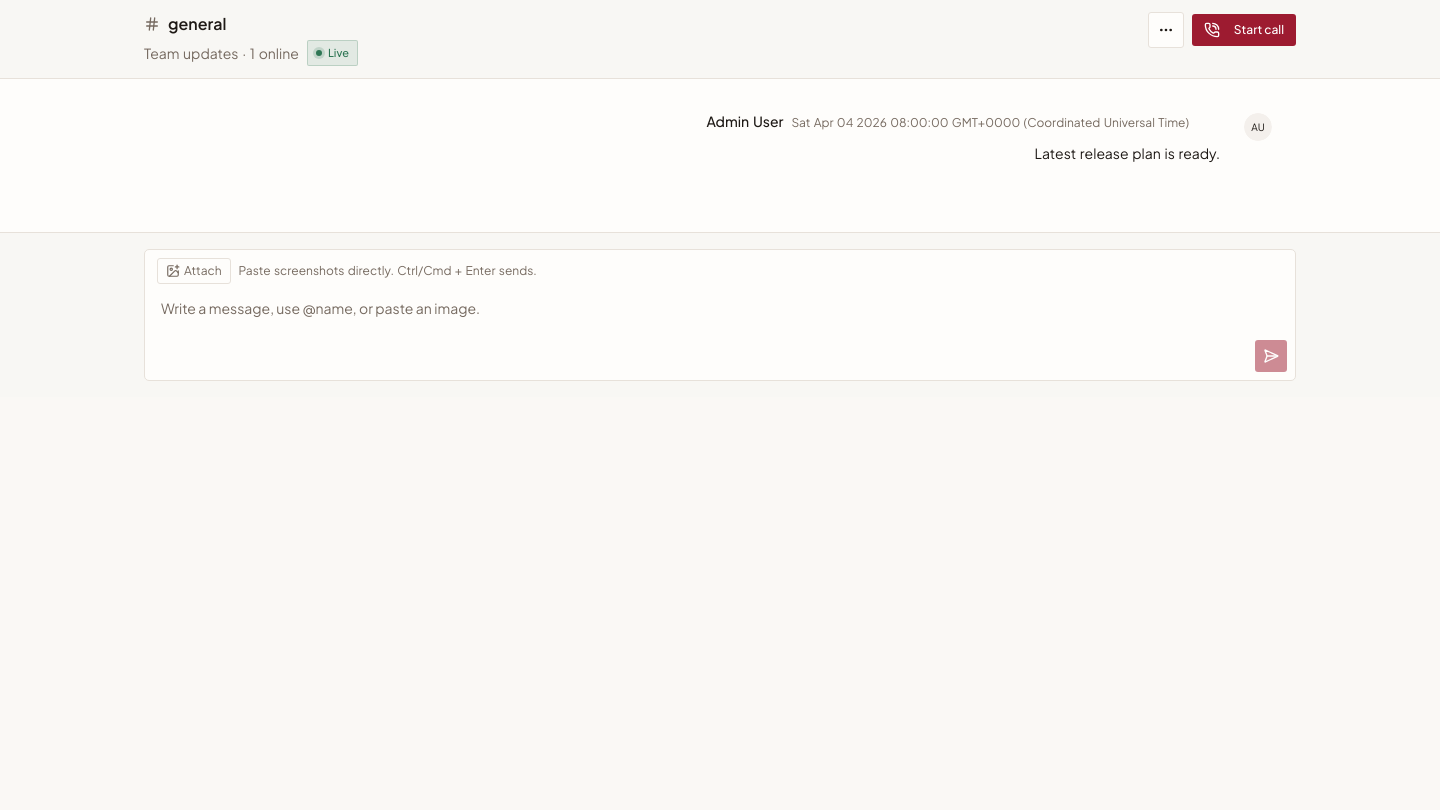
Test: ChatShell › shows a clear localized audio error if microphone access fails while joining
This screenshot has width=1440, height=810.
Click the button "Start call".
click(1244, 30)  # box [1192,14,1296,46]
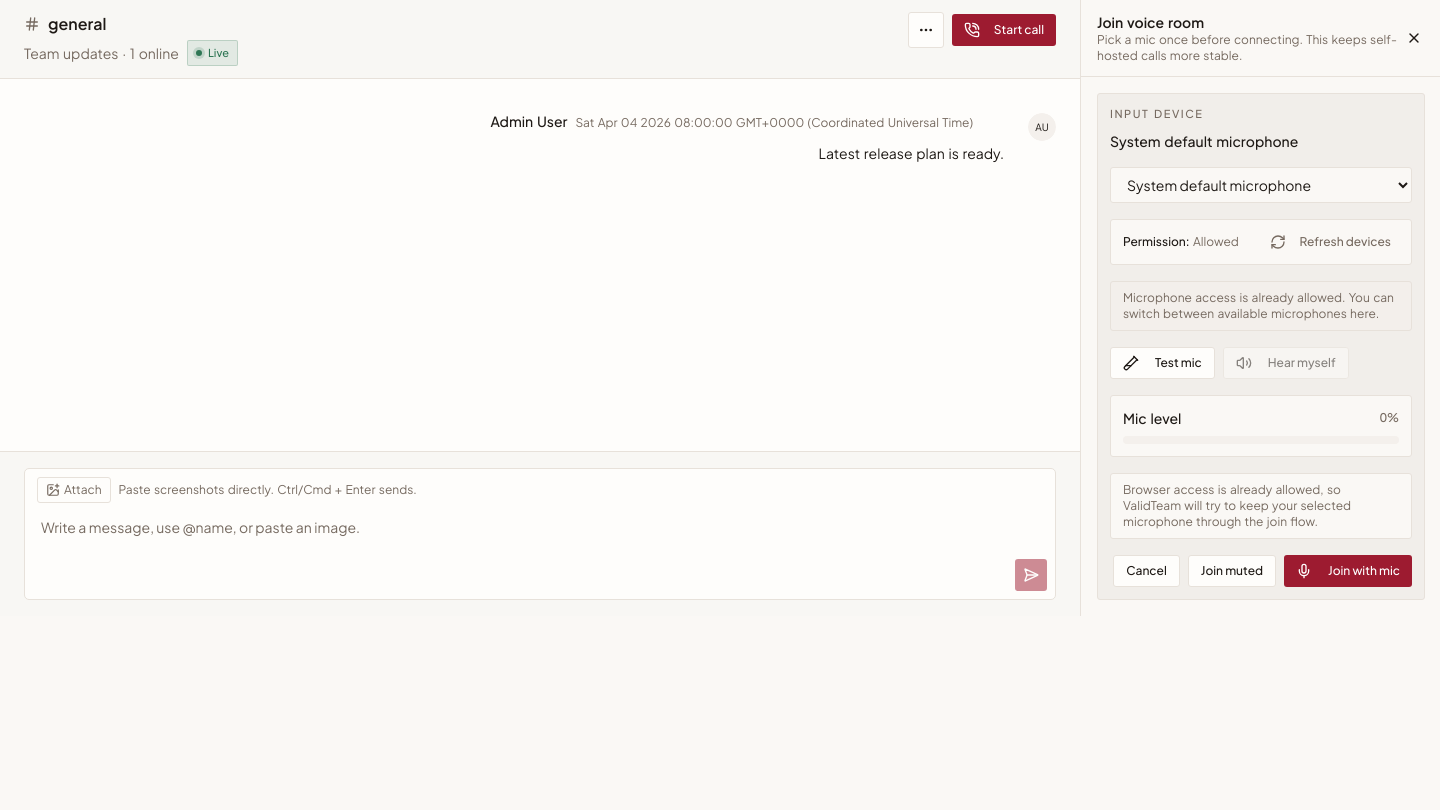
Now the button "Join with mic" is enabled
Click the button "Join with mic".
click(1348, 570)  # box [1284,554,1412,586]
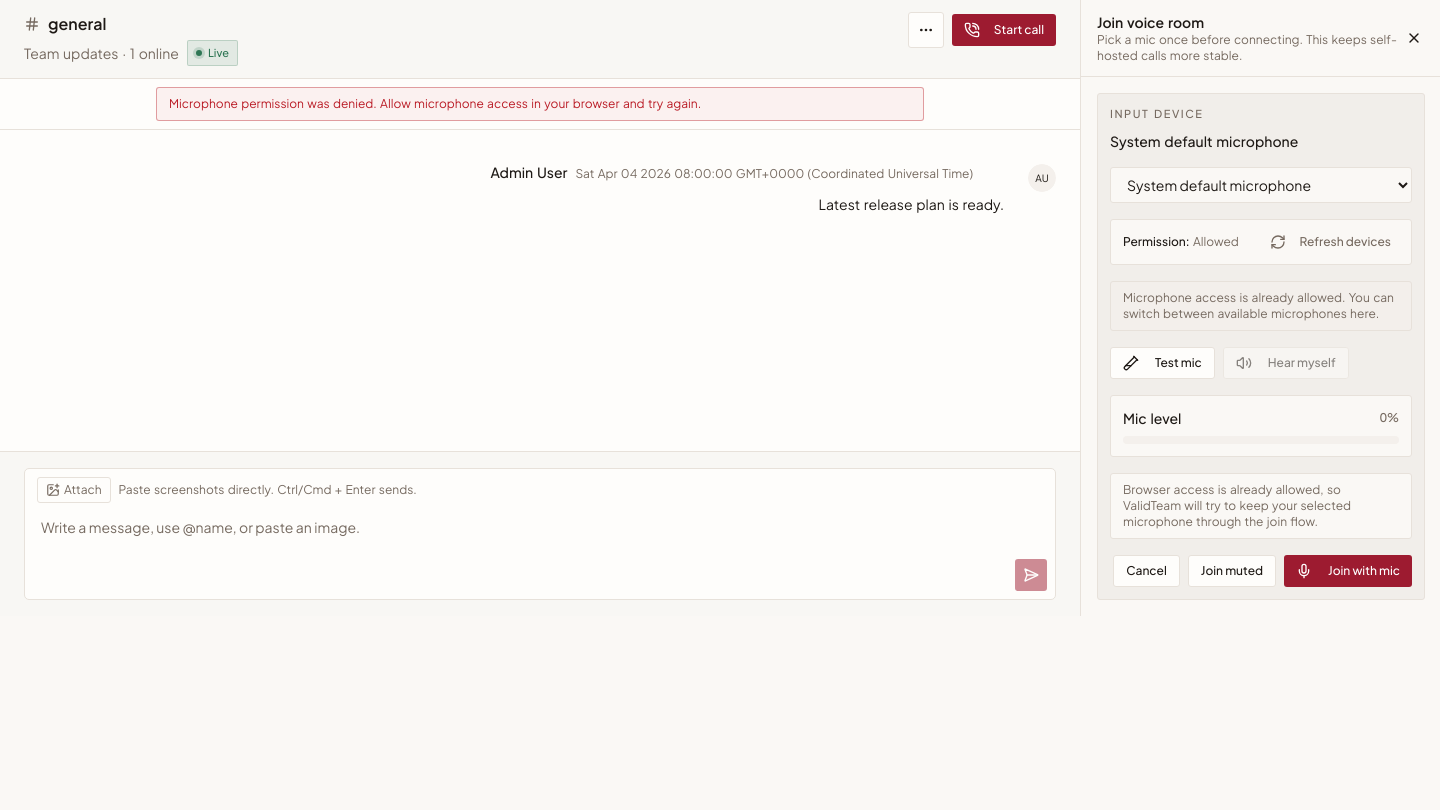
Now the text "Microphone permission was denied" is shown, box [169,96,701,111]
